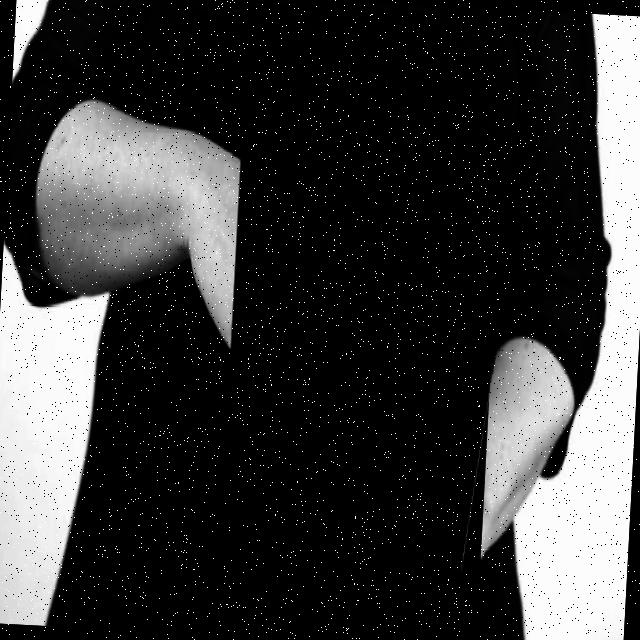K: (210, 152, 514, 607)
